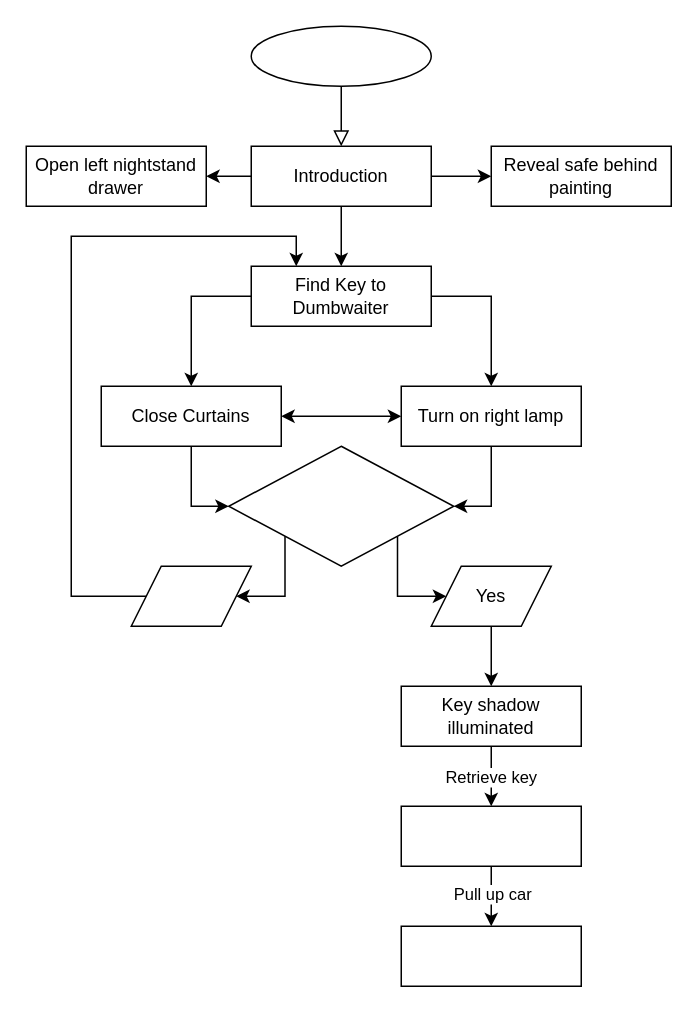
Some shapes in this 698 by 1013 pixel diagram are drawn without their labels. Each missing label, with the box of its shape:
Are the curtains closed and is the right lamp on?: (227, 445, 454, 566)
No: (130, 565, 251, 626)
Start: (250, 25, 431, 86)
Unlock Dumbwaiter: (400, 805, 581, 866)
